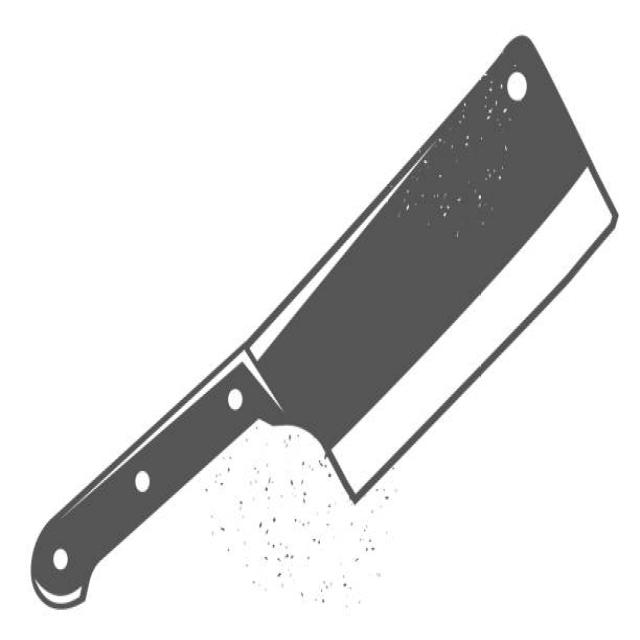knife: (19, 1, 623, 634)
